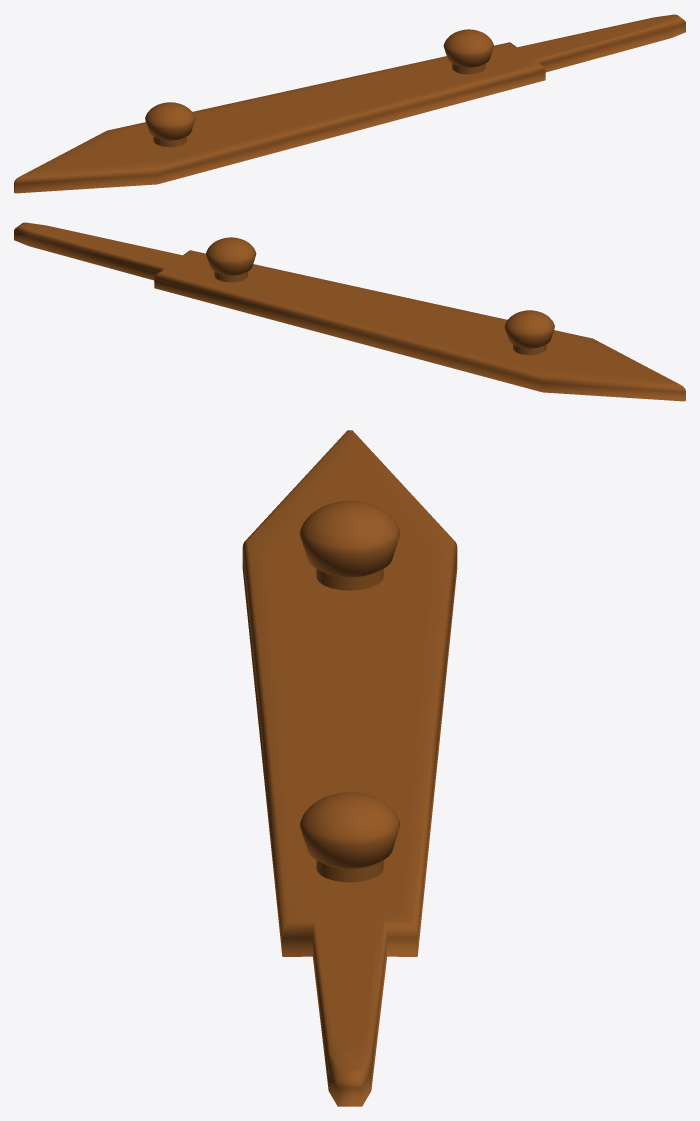
The model's file is SM_BladeStamp.fbx.
The picture shows the model from 3 angles, top to bottom: view 1: azimuth 30°, elevation 25°; view 2: azimuth 150°, elevation 25°; view 3: azimuth 270°, elevation 25°; orthographic projection. The views are drawn at different scales.
Visible parts, largest first — view 1: SM_BladeStamp; view 2: SM_BladeStamp; view 3: SM_BladeStamp.
Part boxes in pixels (x1,y1,x2,y2): SM_BladeStamp: (14,14,685,193); SM_BladeStamp: (14,222,685,401); SM_BladeStamp: (242,430,457,1106).
Bounding box in the file's own units: 51.53 × 3.66 × 7.18.
